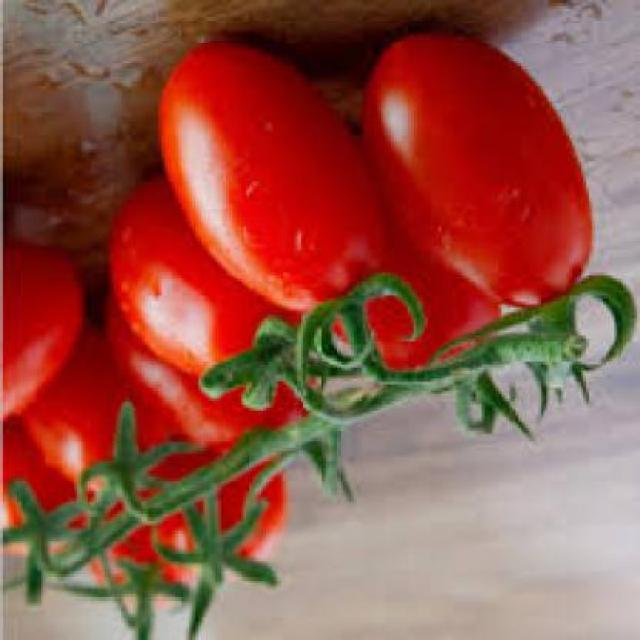BIODEGRADABLE: (362, 36, 592, 306), (159, 45, 382, 311), (112, 179, 298, 374), (109, 299, 303, 452), (366, 232, 500, 369), (22, 329, 132, 481), (2, 244, 82, 416), (98, 512, 196, 639), (4, 416, 75, 509), (239, 472, 288, 556), (219, 465, 262, 531), (152, 447, 225, 479), (138, 395, 180, 448)
